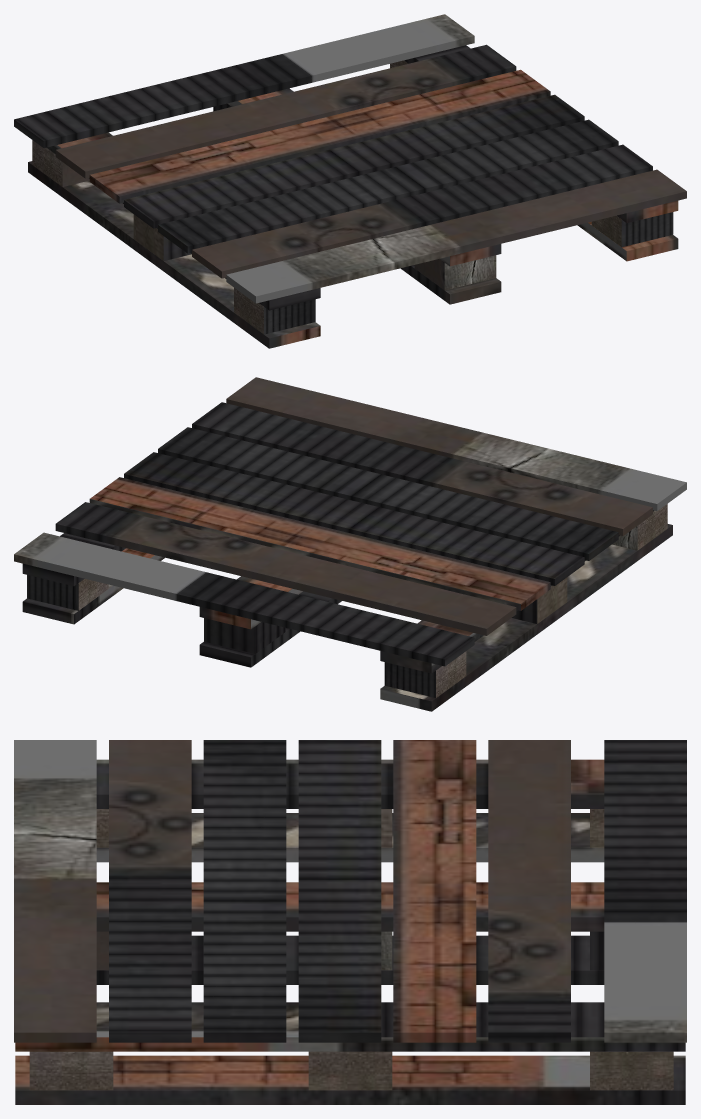
File: woodenpalleta.glb
The picture shows the model from 3 angles, top to bottom: view 1: azimuth 30°, elevation 25°; view 2: azimuth 150°, elevation 25°; view 3: azimuth 270°, elevation 25°; orthographic projection. The views are drawn at different scales.
Parts seen in each view (by area): view 1: WoodenPalletA; view 2: WoodenPalletA; view 3: WoodenPalletA.
Part boxes in pixels (x1,y1,x2,y2): WoodenPalletA: (14, 14, 686, 348); WoodenPalletA: (14, 377, 686, 711); WoodenPalletA: (14, 740, 686, 1104).
Bounding box in the file's own units: 1.34 × 0.1665 × 1.3.
Materials: 1 (1 with a texture image).
